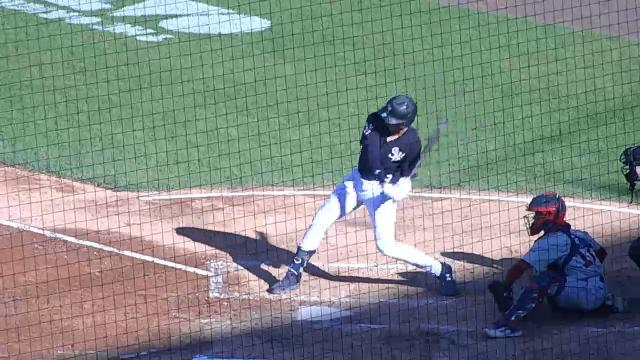baseball bat: (409, 127, 443, 179)
